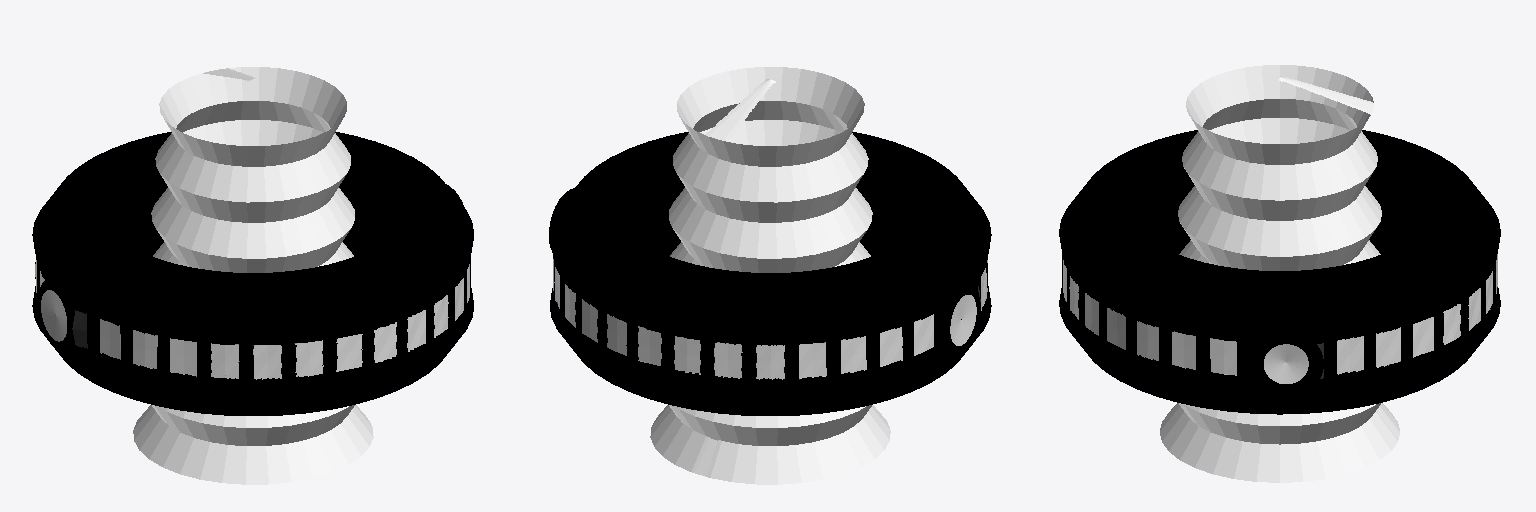
3 views of the same model, side by side, from view 1: azimuth 30°, elevation 25°; view 2: azimuth 150°, elevation 25°; view 3: azimuth 270°, elevation 25° (orthographic).
Parts seen in each view (by area): view 1: Circle; view 2: Circle; view 3: Circle.
Boxes of the visible parts, x1=… form: Circle: x1=32, y1=67, x2=473, y2=484; Circle: x1=549, y1=67, x2=991, y2=484; Circle: x1=1059, y1=65, x2=1500, y2=482.
Bounding box in the file's own units: 7.67 × 6.5 × 7.34.
6 materials, 1 textured.